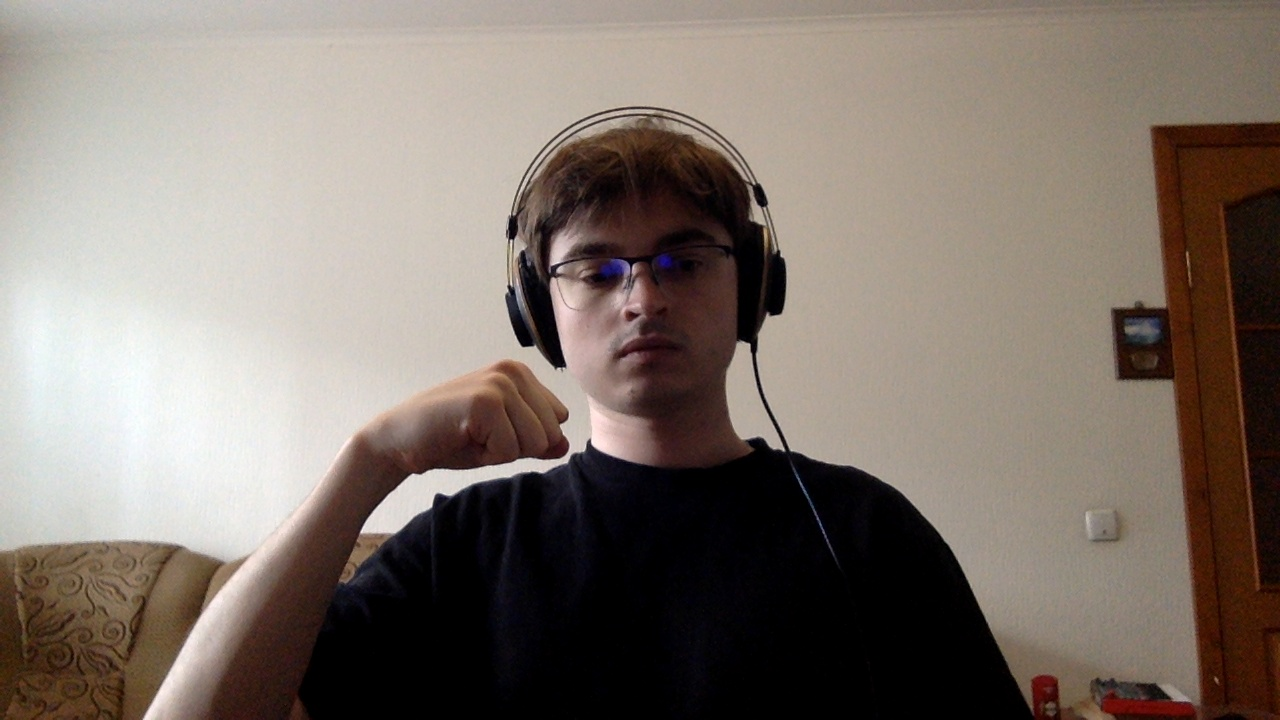yes: (335, 308, 600, 537)
